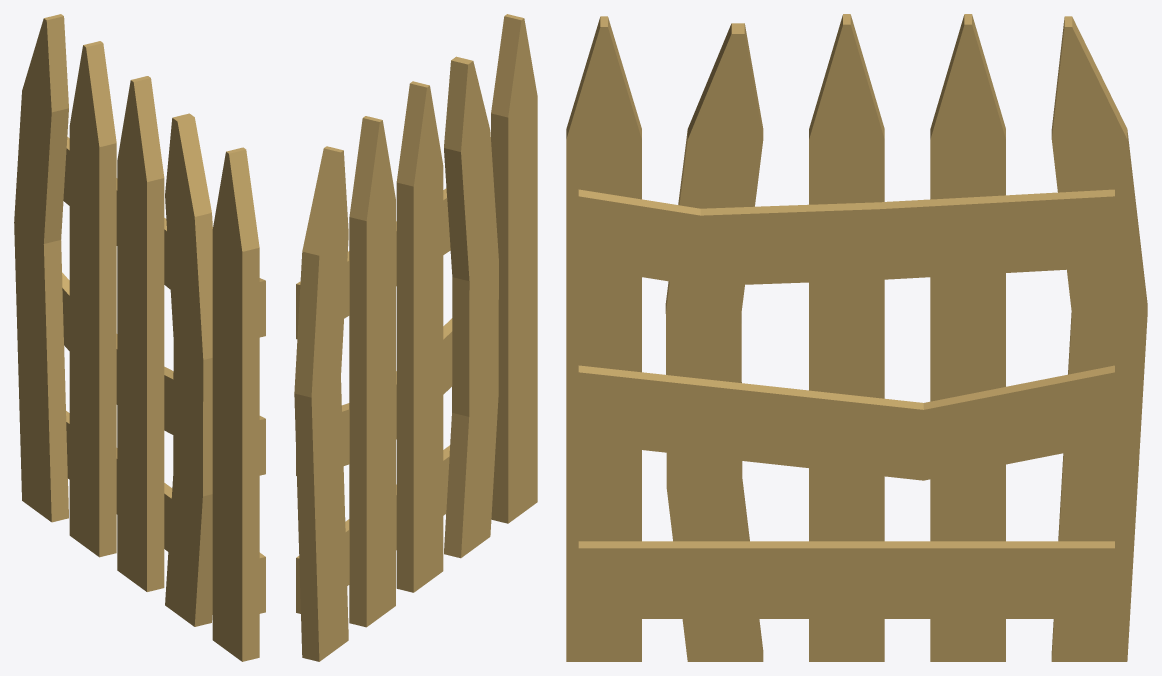
The model's file is fence4.fbx.
3 renders of one model, left to right at view 1: azimuth 30°, elevation 25°; view 2: azimuth 150°, elevation 25°; view 3: azimuth 270°, elevation 25°, orthographic. The views are drawn at different scales.
Visible parts, largest first — view 1: fence_5; view 2: fence_5; view 3: fence_5.
Boxes of the visible parts, box(x1,y1,x2,y2) form: fence_5: box(14, 14, 265, 661); fence_5: box(294, 14, 537, 661); fence_5: box(566, 14, 1147, 661).
Bounding box in the file's own units: 12.92 × 217 × 180.
